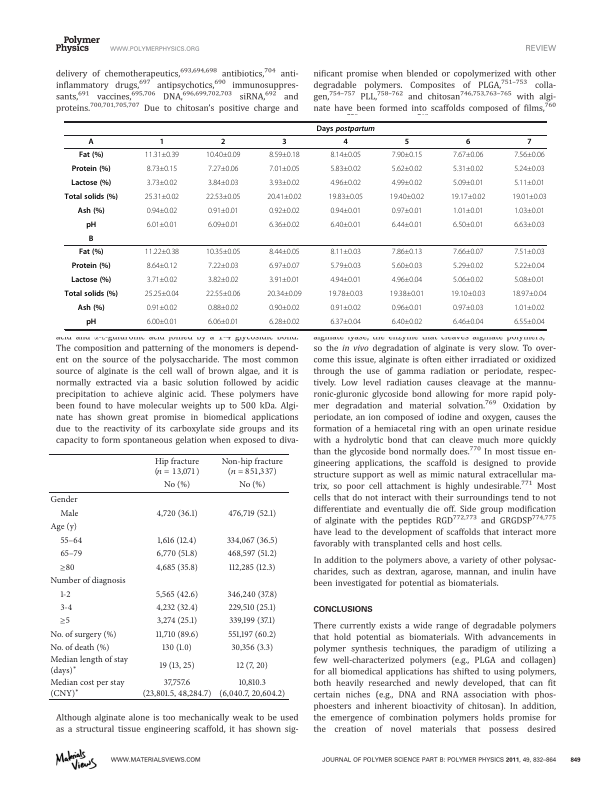borderless: (64, 120, 546, 329), (47, 452, 289, 699)
cell: (49, 654, 129, 676), (49, 677, 125, 699), (142, 677, 212, 699), (218, 677, 286, 699), (221, 456, 284, 479), (154, 456, 200, 479), (49, 575, 127, 586), (49, 629, 117, 639), (49, 642, 110, 653), (226, 535, 279, 546), (226, 589, 278, 600), (64, 192, 119, 202), (64, 289, 119, 299), (227, 508, 277, 519), (316, 124, 376, 133), (228, 602, 277, 613), (227, 549, 278, 559), (227, 629, 277, 639), (155, 508, 199, 519), (155, 589, 199, 600), (155, 602, 199, 613), (230, 642, 274, 653), (228, 562, 276, 572), (228, 616, 276, 626), (157, 535, 197, 546), (155, 562, 199, 572), (155, 629, 199, 639), (70, 178, 112, 188), (70, 275, 112, 285), (156, 549, 198, 559), (156, 616, 198, 626), (71, 164, 111, 174), (71, 261, 111, 271), (158, 660, 196, 670), (161, 642, 193, 653), (49, 494, 79, 505), (236, 660, 269, 670), (49, 521, 78, 532), (77, 206, 105, 216), (77, 303, 105, 313), (163, 480, 191, 490), (238, 480, 266, 490), (59, 535, 83, 546), (78, 150, 104, 160), (78, 247, 104, 257), (144, 151, 180, 158), (205, 151, 241, 158), (144, 193, 180, 200), (205, 193, 241, 200), (266, 193, 302, 200), (328, 193, 364, 200), (389, 193, 425, 200), (450, 193, 486, 200), (511, 193, 547, 200), (144, 248, 180, 255), (205, 248, 241, 255), (144, 290, 180, 297), (205, 290, 241, 297), (266, 290, 302, 297), (328, 290, 364, 297), (389, 290, 425, 297), (450, 290, 486, 297), (511, 290, 547, 297), (59, 549, 83, 559), (59, 559, 75, 574), (268, 151, 301, 158), (329, 151, 362, 158), (513, 151, 546, 158), (268, 165, 301, 172), (329, 165, 362, 172), (513, 165, 546, 172), (268, 179, 301, 186), (329, 179, 362, 186), (513, 179, 546, 186), (268, 207, 301, 214), (329, 207, 362, 214), (513, 207, 546, 214), (268, 221, 301, 228), (329, 221, 362, 228), (513, 221, 546, 228), (268, 248, 301, 255), (329, 248, 362, 255), (513, 248, 546, 255), (268, 262, 301, 269), (329, 262, 362, 269), (513, 262, 546, 269), (268, 276, 301, 283), (329, 276, 362, 283), (513, 276, 546, 283), (268, 304, 301, 311), (329, 304, 362, 311), (513, 304, 546, 311), (268, 318, 301, 325), (329, 318, 362, 325), (513, 318, 546, 325), (391, 151, 423, 158), (452, 151, 484, 158), (146, 165, 178, 172), (207, 165, 239, 172), (391, 165, 423, 172), (452, 165, 484, 172), (146, 179, 178, 186), (207, 179, 239, 186), (391, 179, 423, 186), (452, 179, 484, 186), (146, 207, 178, 214), (207, 207, 239, 214), (391, 207, 423, 214), (452, 207, 484, 214), (146, 221, 178, 228), (207, 221, 239, 228), (391, 221, 423, 228), (452, 221, 484, 228), (391, 248, 423, 255), (452, 248, 484, 255), (146, 262, 178, 269), (207, 262, 239, 269), (391, 262, 423, 269), (452, 262, 484, 269), (146, 276, 178, 283), (207, 276, 239, 283), (391, 276, 423, 283), (452, 276, 484, 283), (146, 304, 178, 311), (207, 304, 239, 311), (391, 304, 423, 311), (452, 304, 484, 311), (146, 318, 178, 325), (207, 318, 239, 325), (391, 318, 423, 325), (452, 318, 484, 325), (59, 508, 79, 519), (59, 612, 71, 628), (59, 602, 73, 613), (59, 589, 71, 600), (85, 220, 97, 230), (85, 317, 97, 327), (88, 137, 95, 147), (342, 137, 349, 147), (159, 137, 165, 147), (220, 137, 226, 147), (281, 137, 287, 147), (404, 137, 410, 147), (465, 137, 471, 147), (526, 137, 532, 147), (88, 234, 94, 244)
